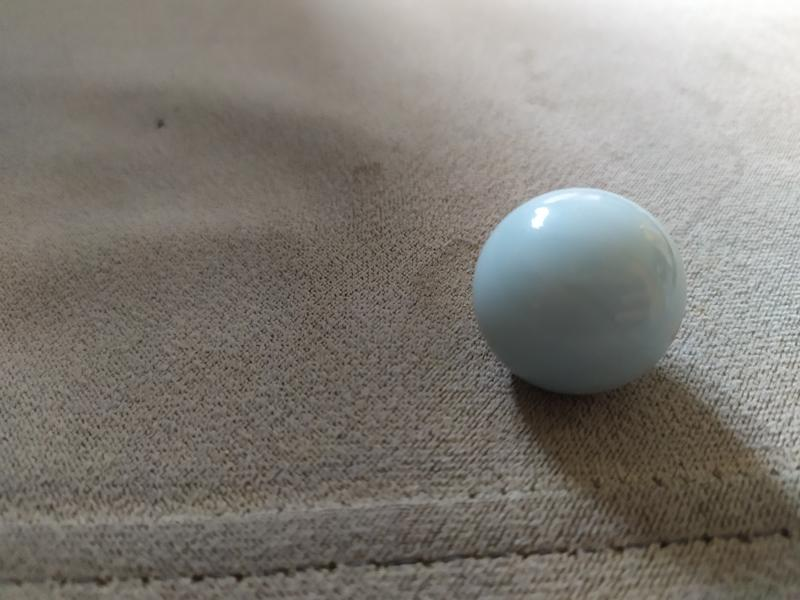Warning: (468, 182, 695, 401)
